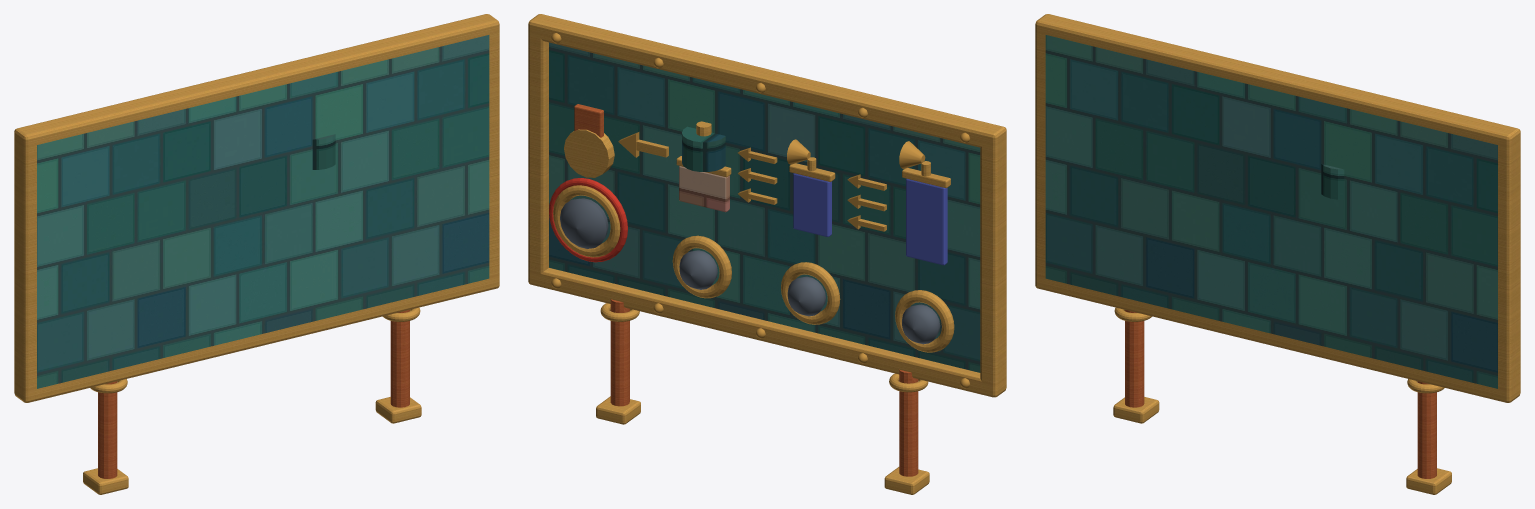
Rendered from act2_melody_plaque.glb.
The picture shows the model from 3 angles, left to right: view 1: azimuth 30°, elevation 25°; view 2: azimuth 150°, elevation 25°; view 3: azimuth 330°, elevation 25°; orthographic projection.
Parts seen in each view (by area): view 1: SM_Plaque_Frame; view 2: SM_Plaque_Frame, ANIM_NoteDot_Master_Mesh, ANIM_NoteDot_0_Mesh, ANIM_NoteDot_1_Mesh, ANIM_NoteDot_2_Mesh; view 3: SM_Plaque_Frame.
Boxes of the visible parts, box(x1,y1,x2,y2) form: SM_Plaque_Frame: box(14, 14, 499, 494); SM_Plaque_Frame: box(528, 14, 1006, 494); ANIM_NoteDot_Master_Mesh: box(560, 198, 608, 248); ANIM_NoteDot_0_Mesh: box(679, 250, 717, 289); ANIM_NoteDot_1_Mesh: box(902, 304, 940, 344); ANIM_NoteDot_2_Mesh: box(787, 276, 825, 316); SM_Plaque_Frame: box(1035, 14, 1520, 494).
Size of the model in its own units: 1.56 by 1.19 by 0.143.
11 materials, 5 textured.
